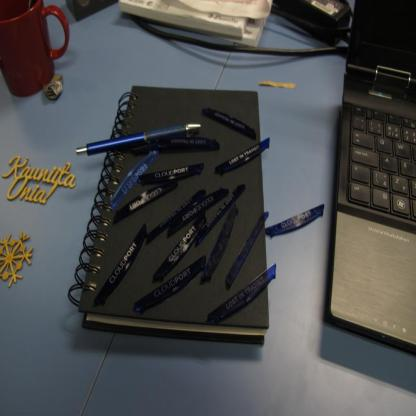board: (339, 16, 416, 300)
